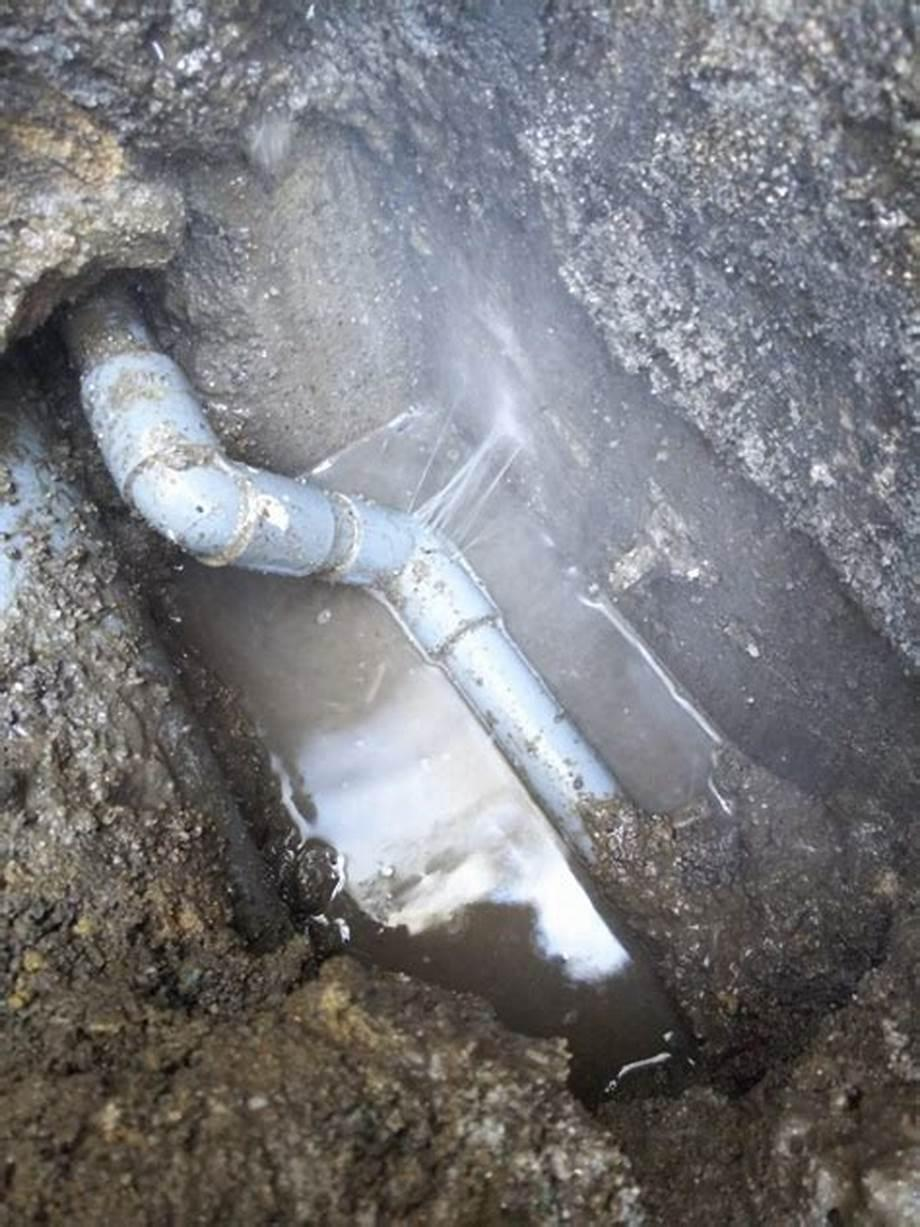pipe burst: (402, 398, 540, 567)
water accumulation: (158, 406, 790, 1093)
